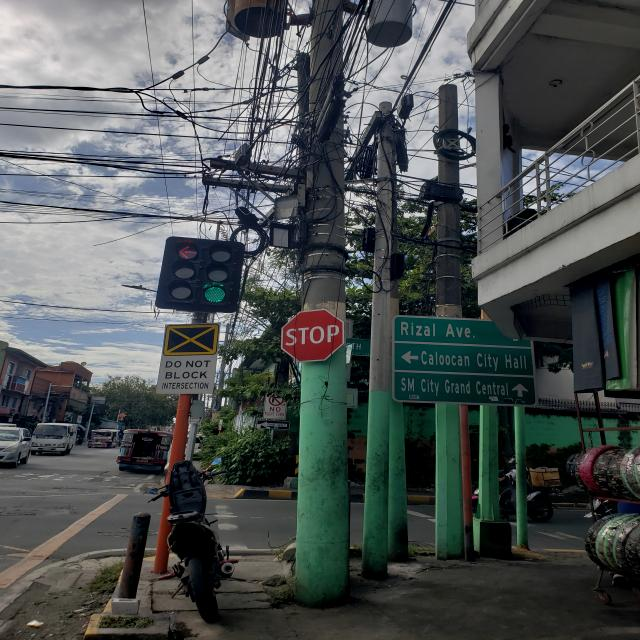stop-sign: (281, 308, 345, 362)
